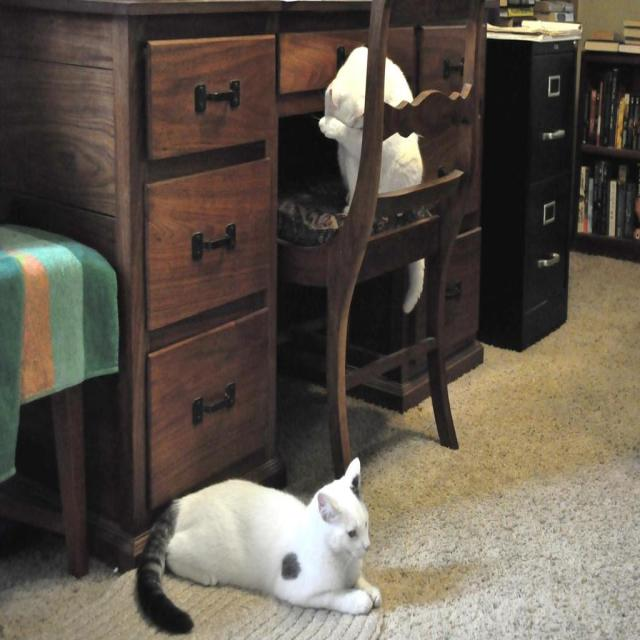Cat: (132, 453, 380, 634), (318, 44, 425, 316)
